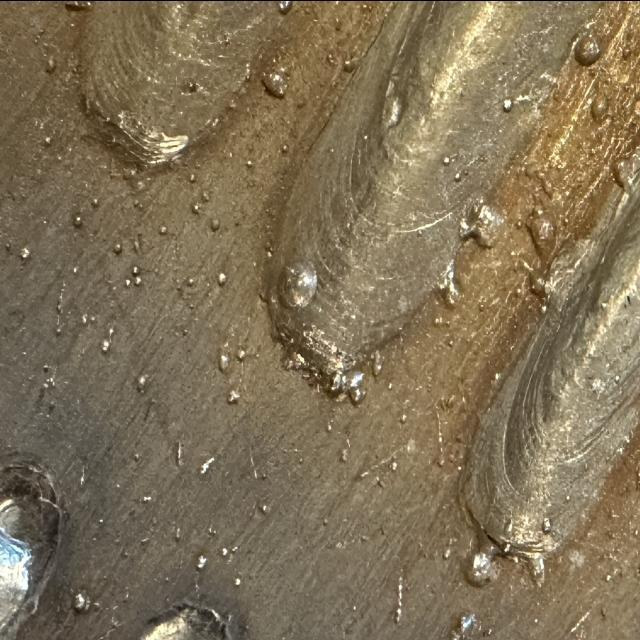Excess Reinforcement: (545, 233, 596, 307), (460, 200, 505, 245), (329, 368, 365, 403), (530, 553, 545, 585), (284, 352, 305, 368)
Spatters: (526, 205, 555, 260), (436, 260, 461, 307), (466, 550, 496, 585), (574, 33, 601, 65), (262, 68, 289, 98), (612, 155, 630, 188), (590, 92, 609, 122), (394, 575, 405, 622), (529, 268, 546, 298), (72, 590, 91, 612), (56, 280, 64, 331), (450, 615, 465, 640), (460, 612, 476, 632), (172, 440, 184, 465), (219, 345, 230, 372), (371, 350, 382, 375), (136, 372, 149, 392), (200, 458, 215, 473), (444, 537, 454, 558), (276, 0, 292, 13), (432, 315, 449, 327), (45, 55, 56, 73), (228, 388, 241, 403), (196, 553, 208, 568), (504, 518, 512, 540), (442, 154, 458, 165), (72, 212, 82, 228), (185, 80, 198, 92), (502, 97, 512, 112), (542, 517, 551, 533), (210, 218, 220, 232), (236, 347, 246, 360), (20, 245, 30, 258), (112, 242, 122, 255), (101, 338, 110, 352), (478, 297, 486, 312), (360, 530, 370, 542), (175, 525, 181, 542), (259, 503, 269, 513), (441, 317, 451, 327), (141, 493, 152, 502), (91, 197, 100, 208), (202, 190, 210, 202), (208, 525, 216, 537), (219, 272, 226, 285), (44, 377, 54, 386), (191, 202, 200, 212), (159, 223, 168, 233), (186, 277, 195, 287), (188, 172, 196, 183), (134, 273, 141, 285), (132, 265, 140, 275), (134, 197, 142, 207), (281, 143, 289, 153), (400, 413, 408, 423), (48, 402, 55, 413), (341, 448, 348, 459), (109, 325, 114, 340), (132, 453, 140, 462), (446, 338, 454, 347), (54, 327, 61, 337), (44, 135, 51, 145), (504, 542, 511, 552), (515, 285, 522, 295), (391, 460, 398, 470), (221, 547, 229, 555), (140, 537, 150, 543), (82, 313, 88, 323), (5, 242, 11, 252), (246, 158, 252, 168), (515, 220, 522, 228), (322, 517, 329, 525), (261, 470, 268, 478), (235, 577, 241, 585), (42, 363, 48, 371), (72, 265, 78, 273), (455, 172, 461, 180), (176, 283, 181, 292), (125, 278, 131, 285), (189, 302, 195, 308), (389, 382, 392, 388)
